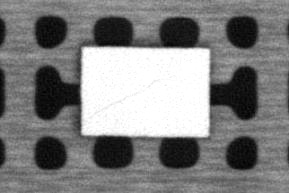DIE_CRACK: (87, 76, 171, 122)
